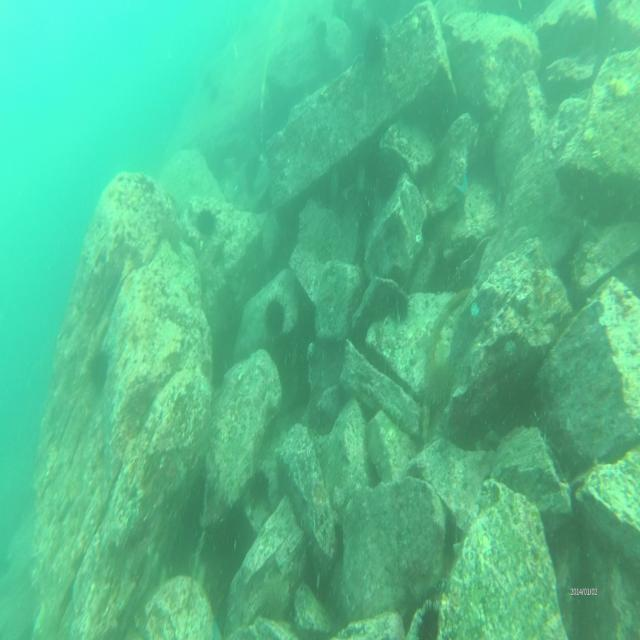echinus: (413, 589, 444, 640), (246, 458, 273, 512), (384, 280, 416, 325), (86, 340, 113, 391), (262, 289, 287, 341), (196, 202, 218, 244)
